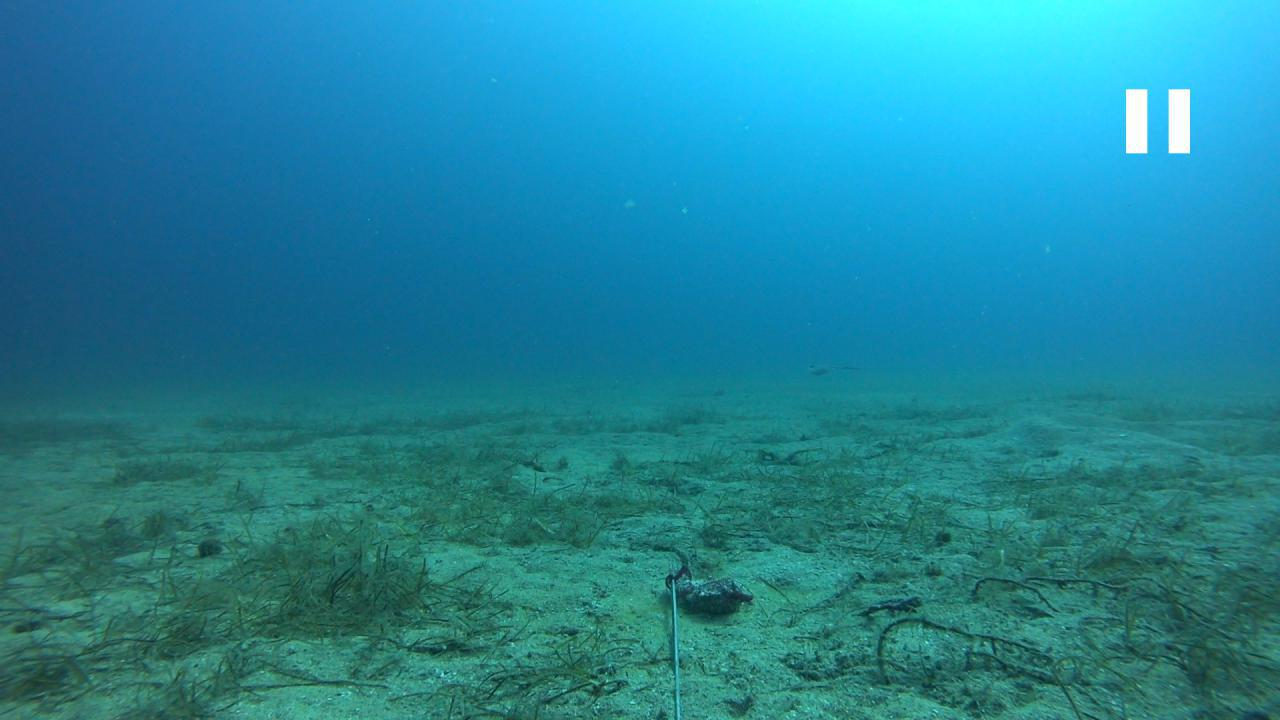dasyatis: (806, 362, 860, 375)
